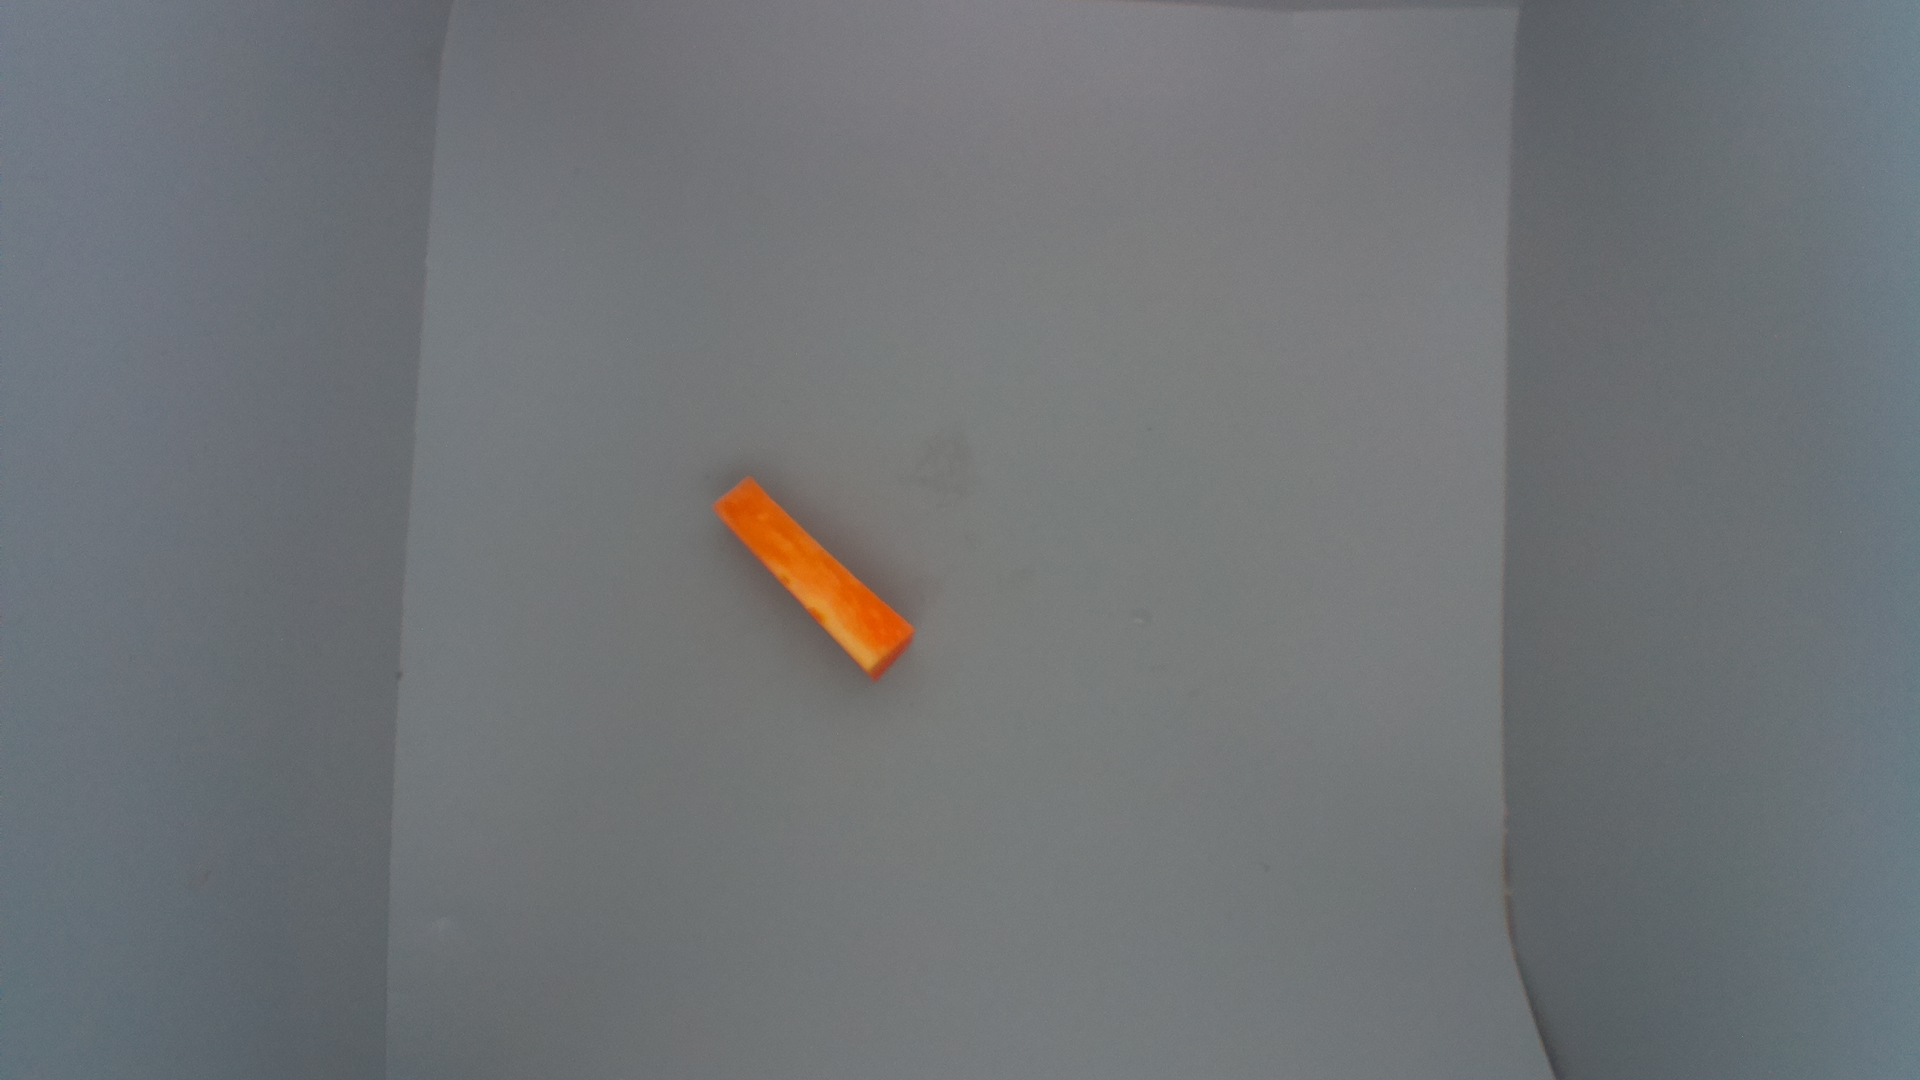carrot: (712, 473, 915, 682)
